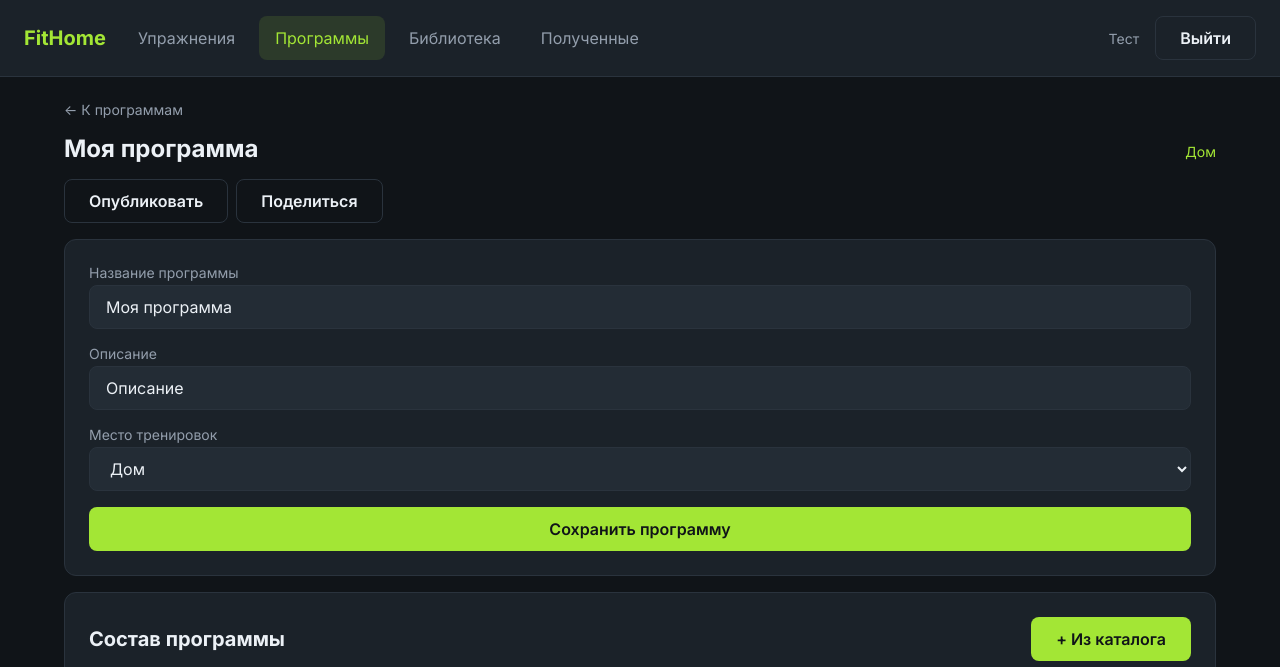
Test: ProgramDetailPage — параметры программы › сохранение шапки → PUT updateProgram + уведомление
Replace the text in the field labelled "Название программы" with "Обновлённая программа" at (640, 307), box [89,285,1191,329]
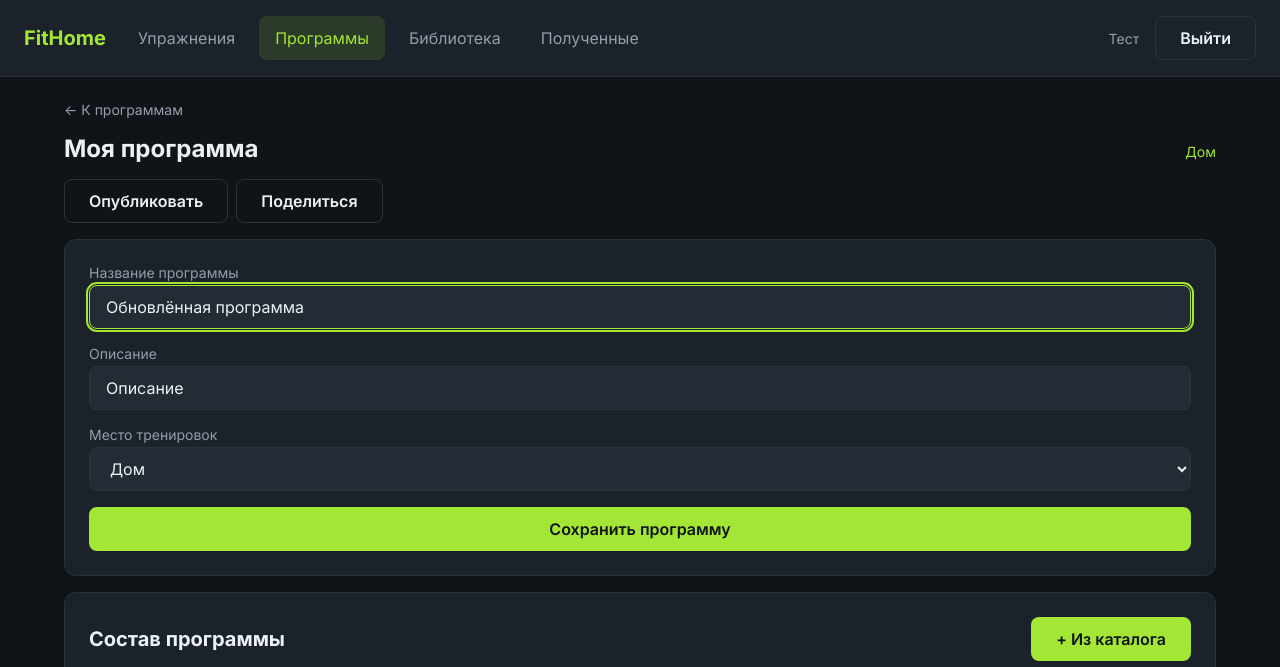
Click the button "Сохранить программу" at (640, 529), box [89,507,1191,551]
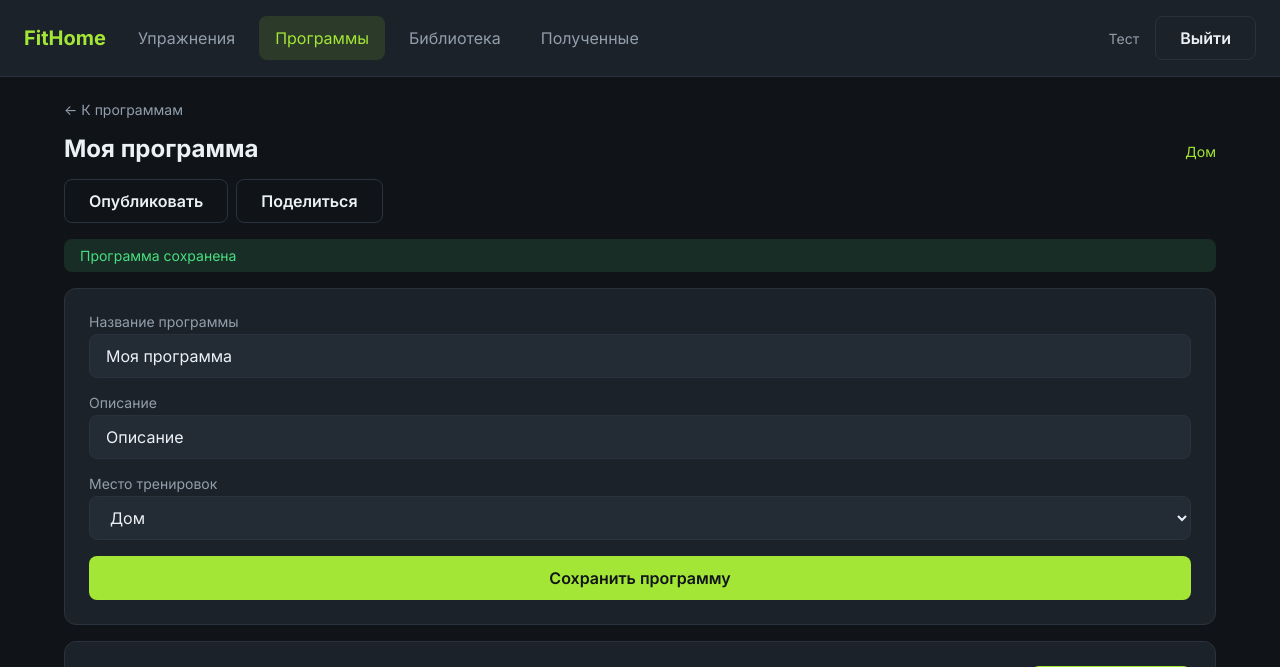
Expected: the text "Программа сохранена" is shown, [64,239,1216,272]
